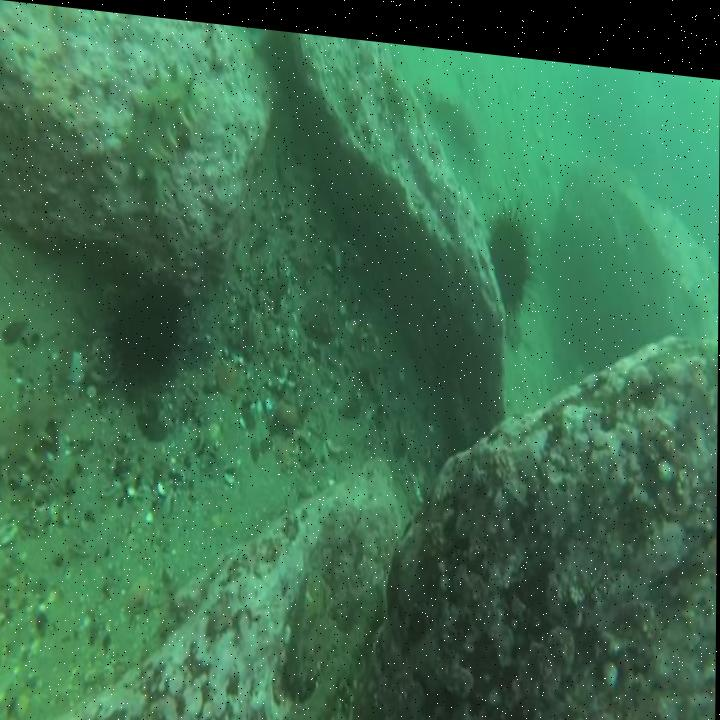echinus: (114, 277, 182, 381), (490, 203, 529, 295)
holothurian: (126, 57, 203, 212), (0, 391, 59, 490), (287, 127, 318, 266)
